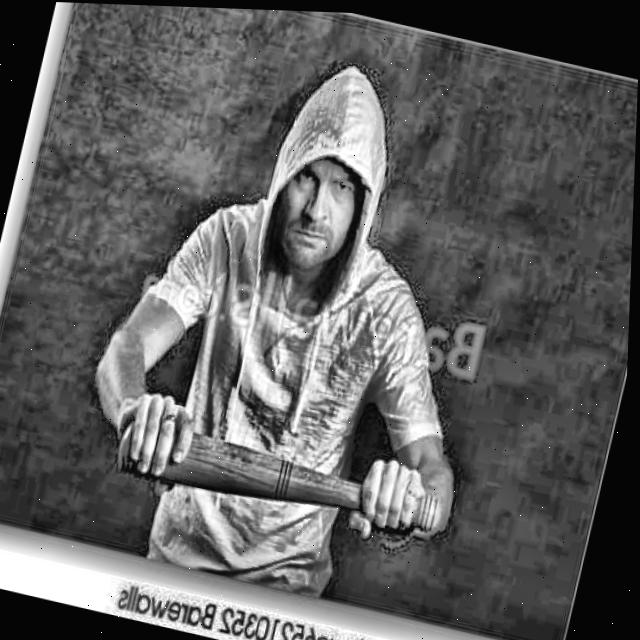tongkat pemukul: (105, 415, 449, 542)
